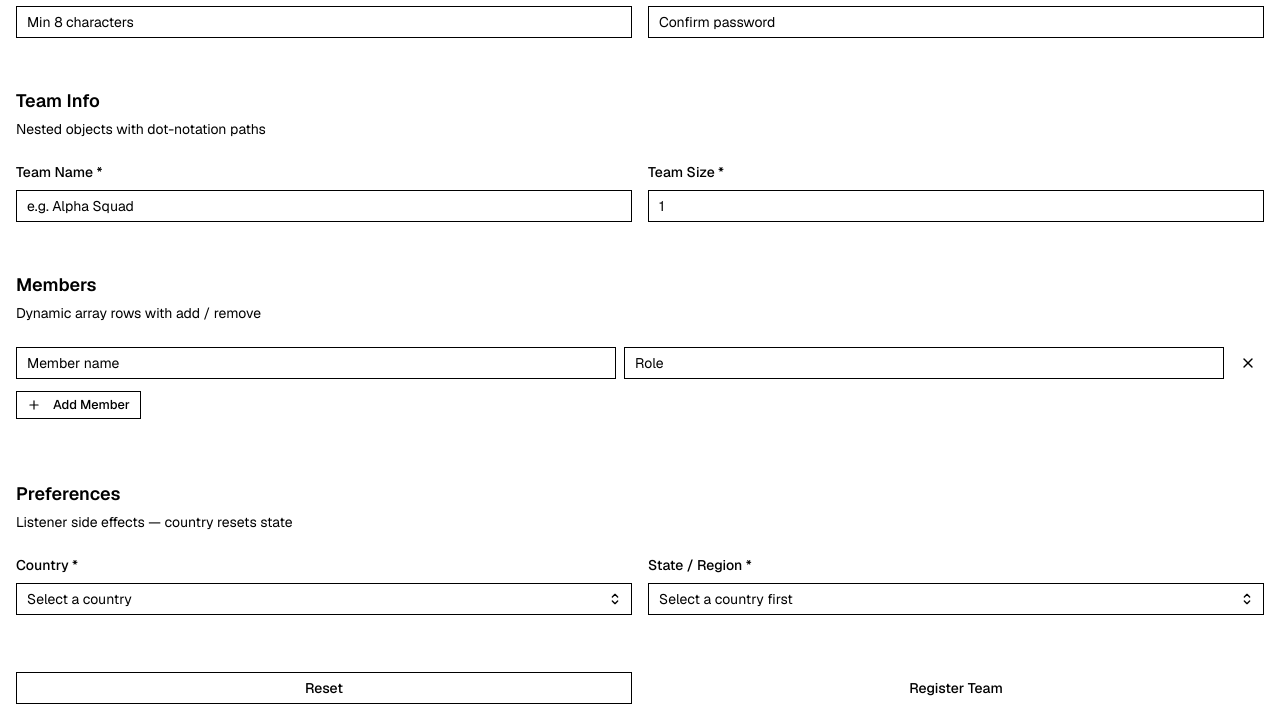
Test: AdvancedFormPatterns › shows dependent states and resets the state when country changes
(page scrolled)
Expected: the text "Select a country first" is shown, [659,590,793,608]
Click the dropdown labelled "Select a country ▼": (79, 599) [16,583,632,615]
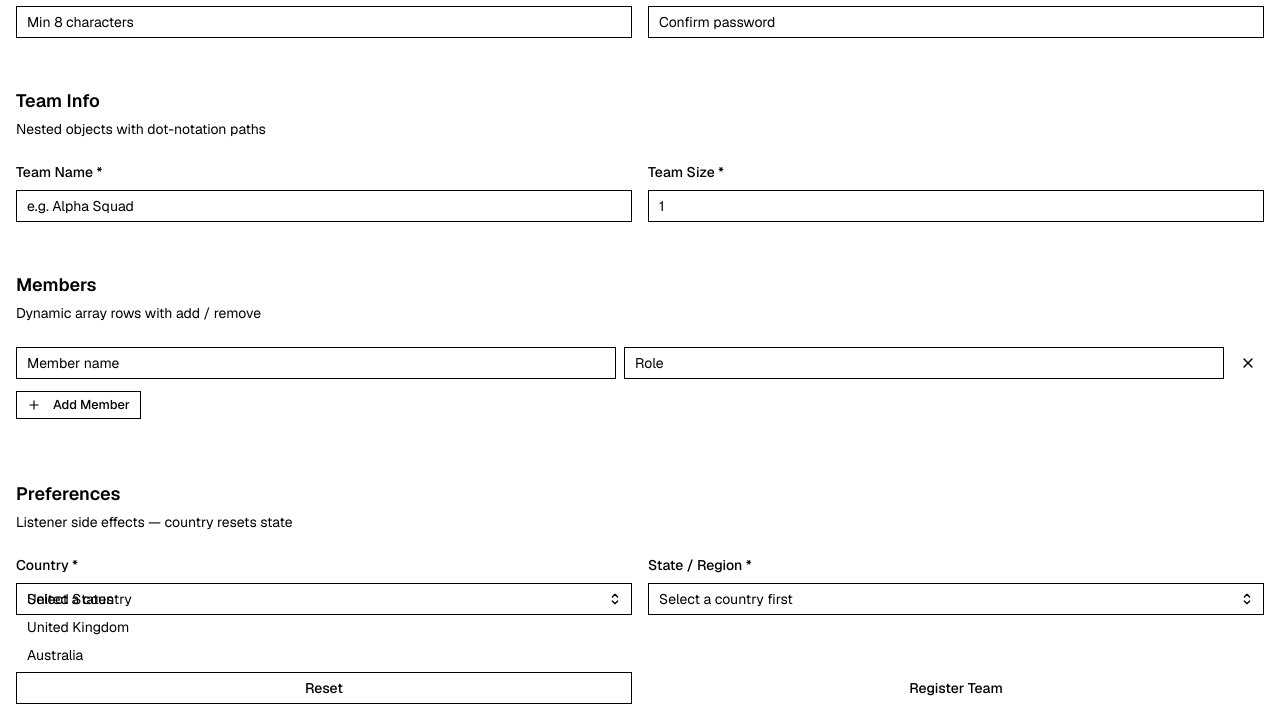
Click the option "United States": (70, 599) [27,590,114,608]
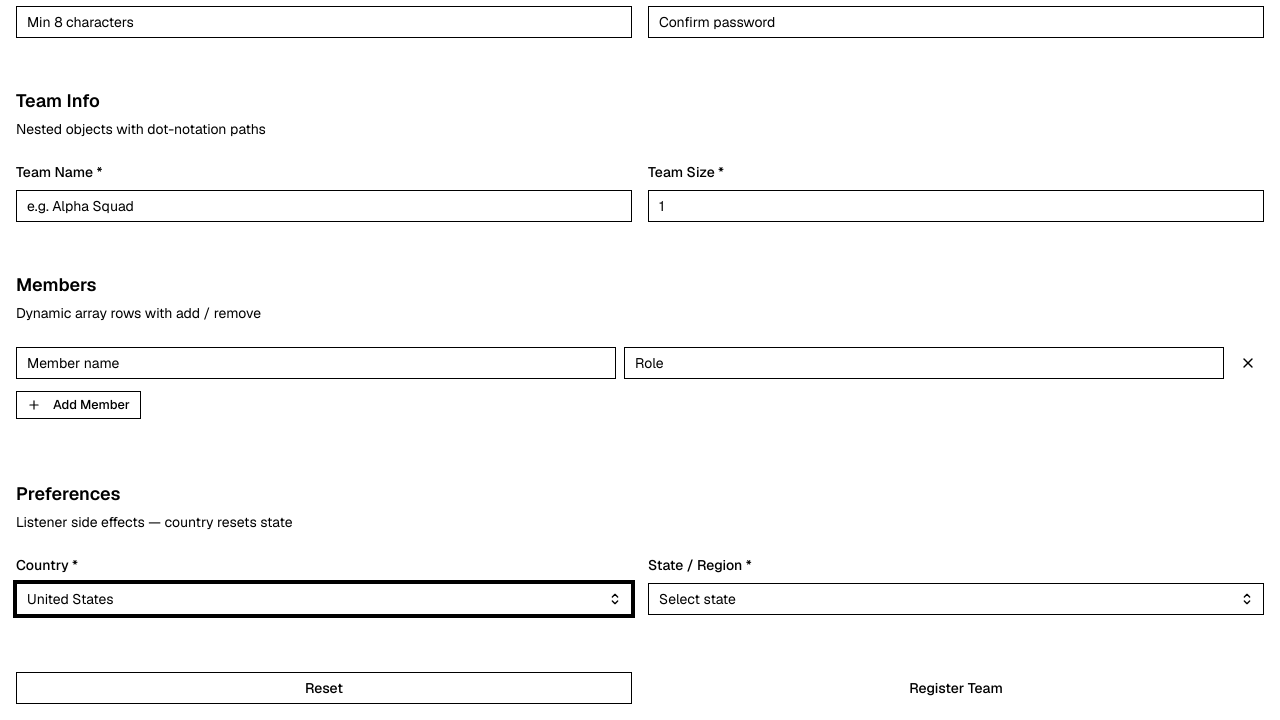
Expected: the dropdown labelled "United States ▼" is shown, [16,583,632,615]
Expected: the text "Select state" is shown, [659,590,736,608]
Click the dropdown labelled "Select state ▼": (697, 599) [648,583,1264,615]
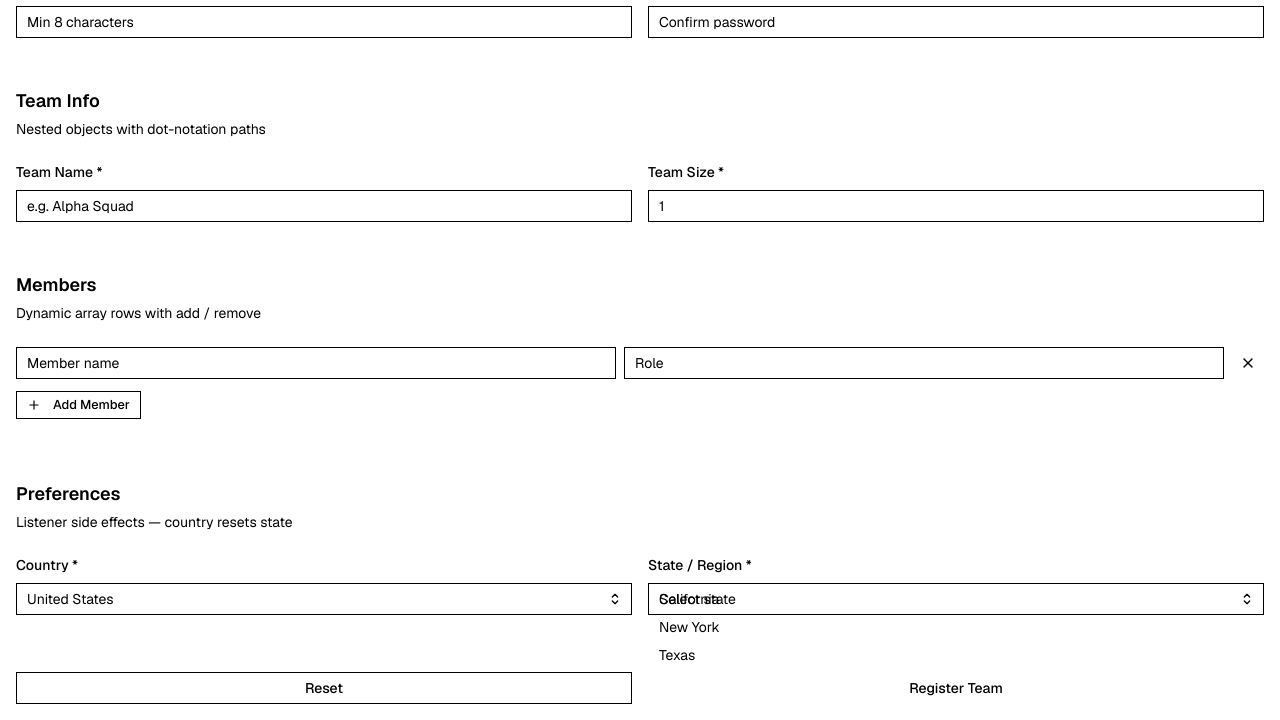
Click the option "Texas": (677, 655) [659,646,695,664]
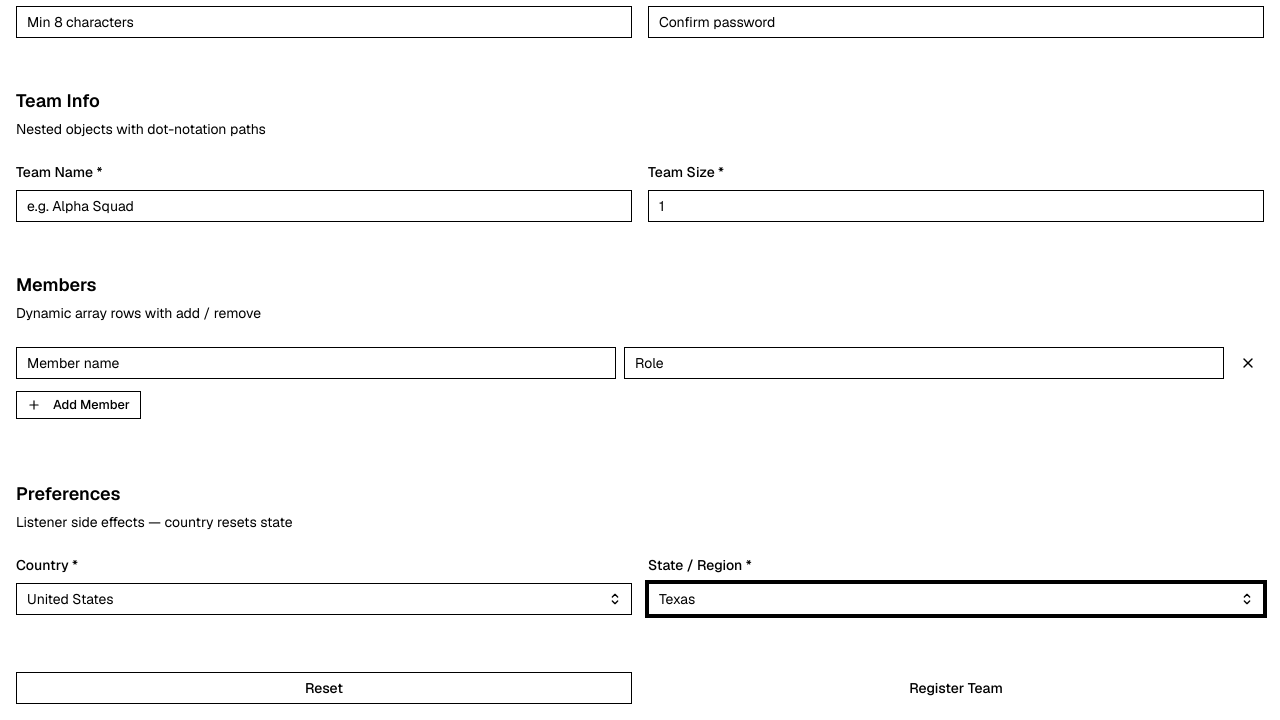
Expected: the dropdown labelled "Texas ▼" is shown, [648,583,1264,615]
Click the dropdown labelled "United States ▼": (70, 599) [16,583,632,615]
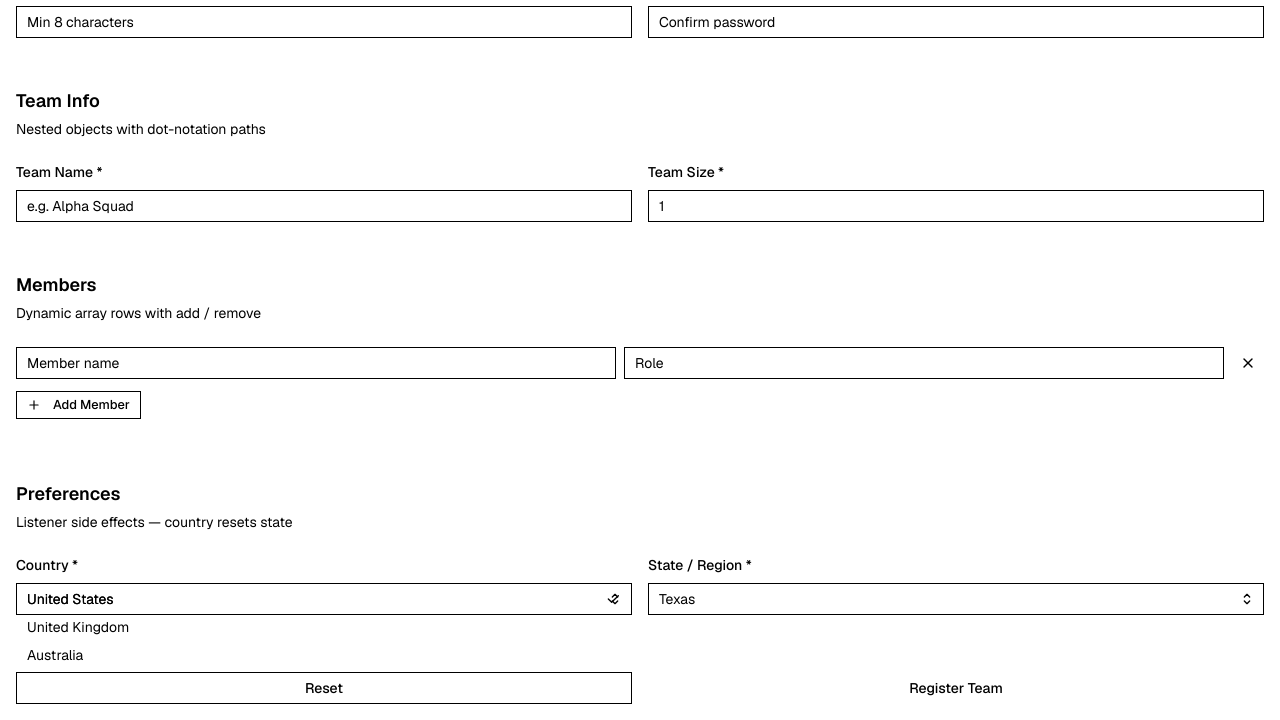
Click the option "Australia": (55, 655) [27,646,83,664]
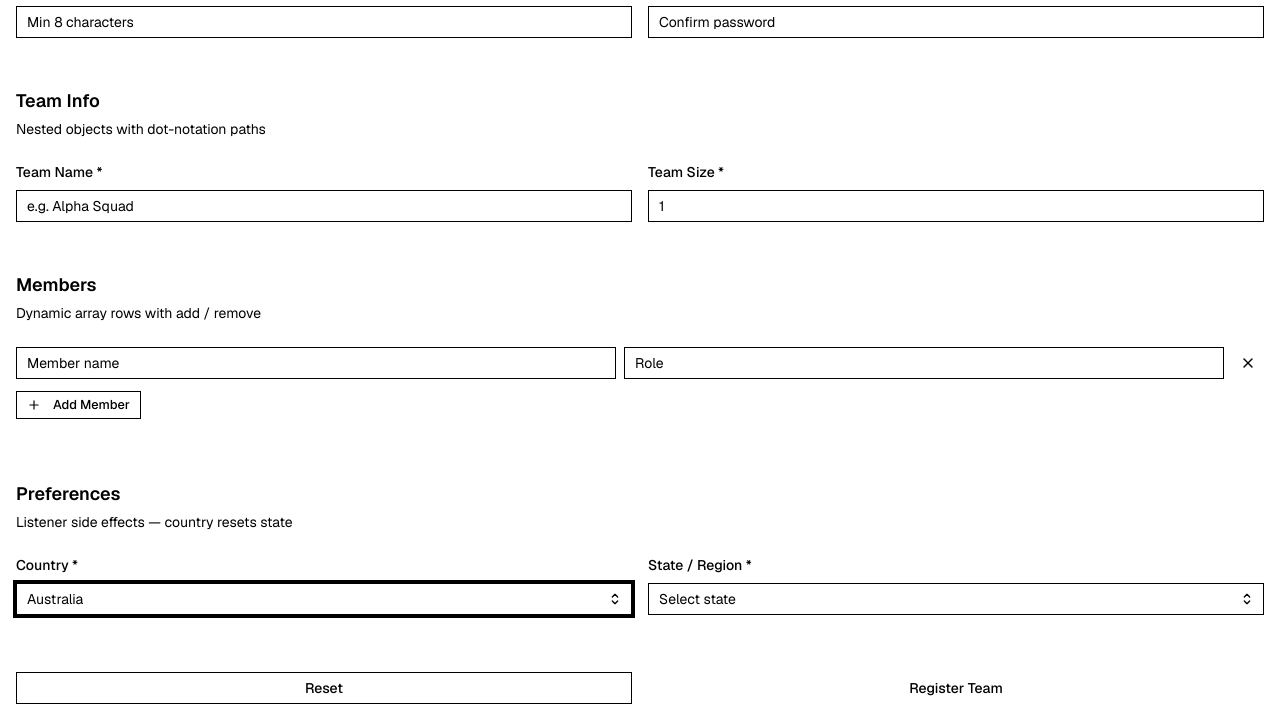
Expected: the dropdown labelled "Australia ▼" is shown, [16,583,632,615]
Expected: the dropdown labelled "Select state ▼" is shown, [648,583,1264,615]
